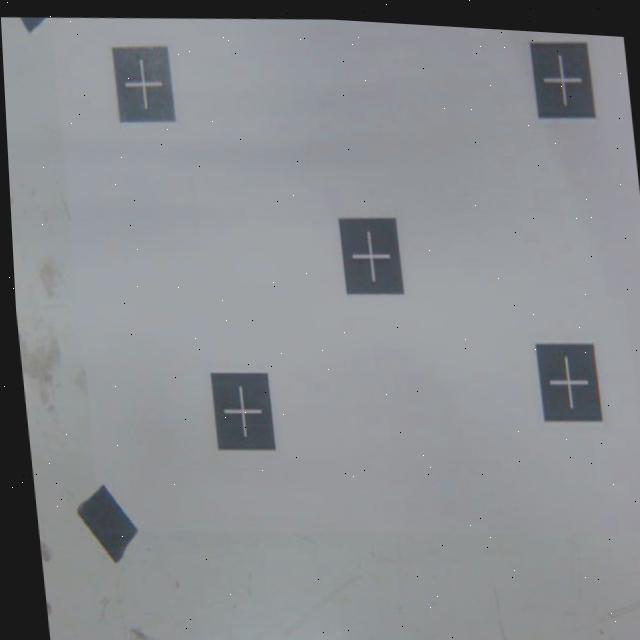dot: (534, 339, 603, 423), (337, 213, 403, 300), (109, 42, 176, 126), (528, 36, 594, 120), (210, 366, 275, 451)
